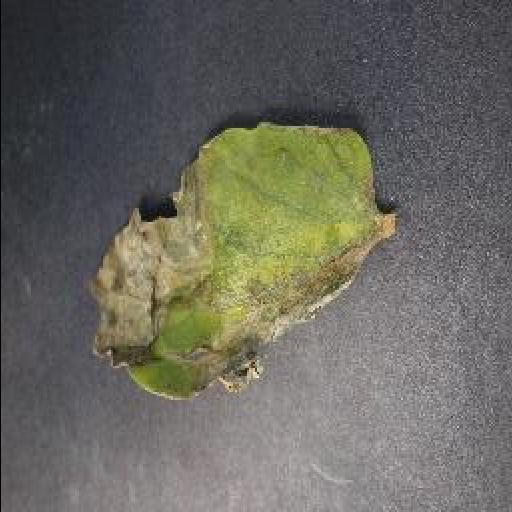disease_tomato: (86, 122, 376, 400)
